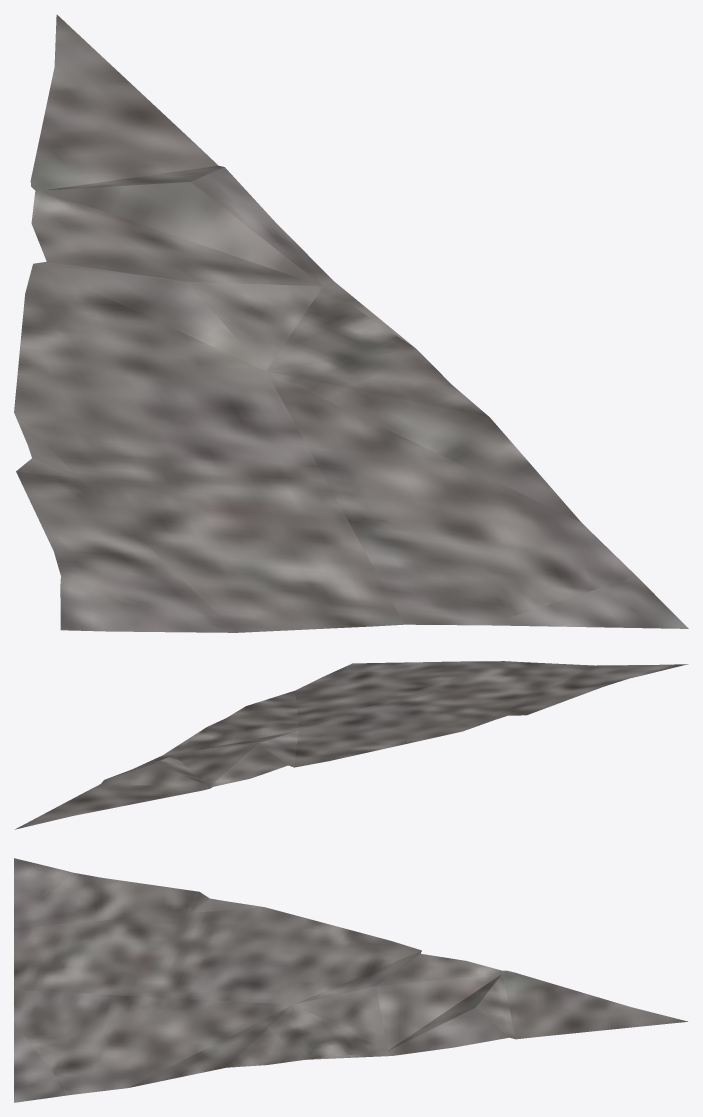
3 renders of one model, top to bottom at view 1: azimuth 30°, elevation 25°; view 2: azimuth 150°, elevation 25°; view 3: azimuth 270°, elevation 25°, orthographic. The views are drawn at different scales.
Size of the model in its own units: 0.2207 by 0.051 by 0.3847.
Materials: 1 (1 with a texture image).
